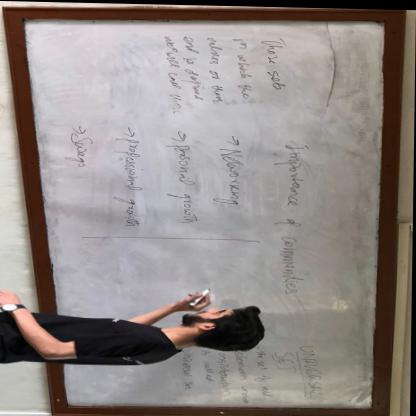Handwritten text: (271, 138, 324, 295), (110, 132, 150, 231), (164, 142, 205, 229), (210, 141, 255, 208), (181, 30, 209, 102), (263, 30, 294, 94), (206, 30, 233, 102), (234, 28, 259, 100), (300, 339, 328, 400), (62, 131, 104, 167), (254, 345, 277, 399), (236, 348, 255, 403), (180, 347, 201, 391), (218, 349, 234, 397), (202, 345, 217, 383), (278, 346, 299, 372)
Lecturer: (4, 285, 265, 375)
Whiteboard: (14, 12, 392, 413)
